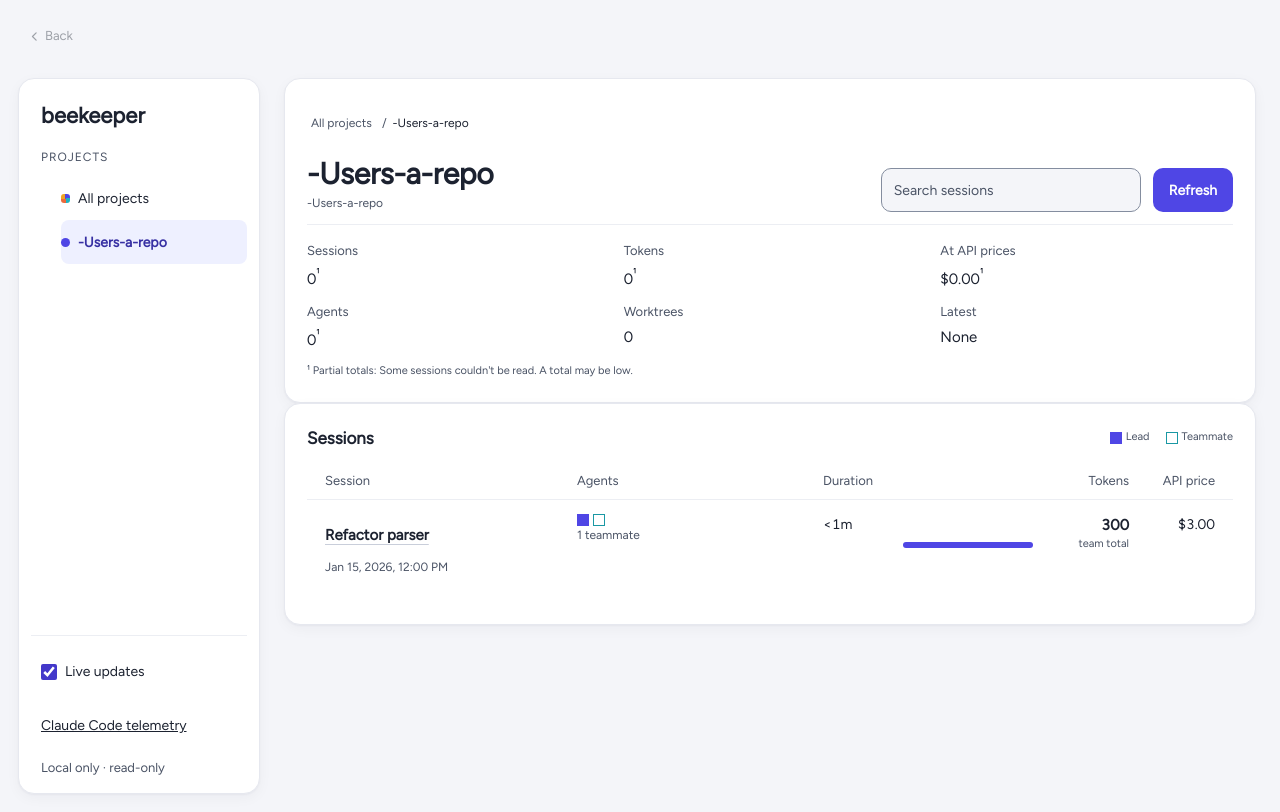
it: refreshing the lists on window focus › keeps focus and the typed text in the search box while it refetches
Check: the heading "Refactor parser" is shown, box left=325, top=514, right=429, bottom=558
In the search field labelled "Search sessions": (1011, 190) left=881, top=168, right=1141, bottom=212, type "Refactor"
Wait 10001 ms
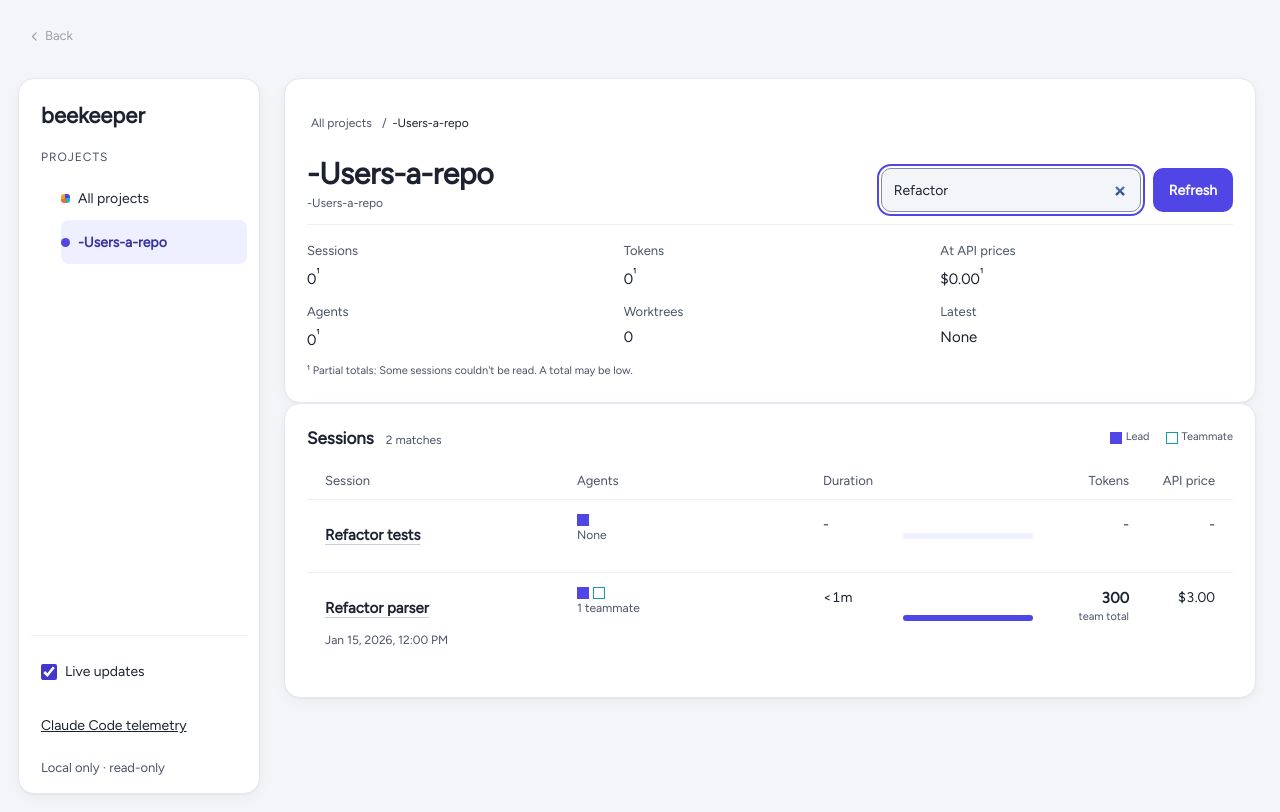
Check: the heading "Refactor tests" is shown, box left=325, top=514, right=420, bottom=558
